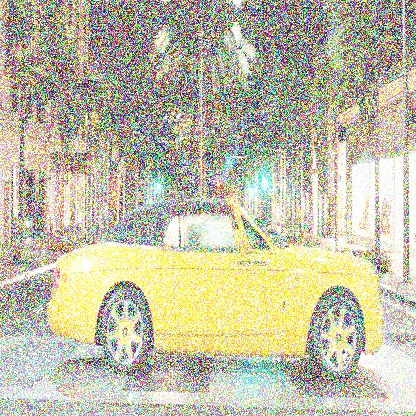Vehicle: (49, 198, 386, 384)
